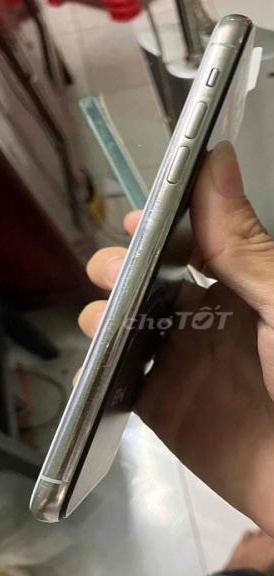scratch: (83, 189, 175, 363), (37, 409, 86, 496)
